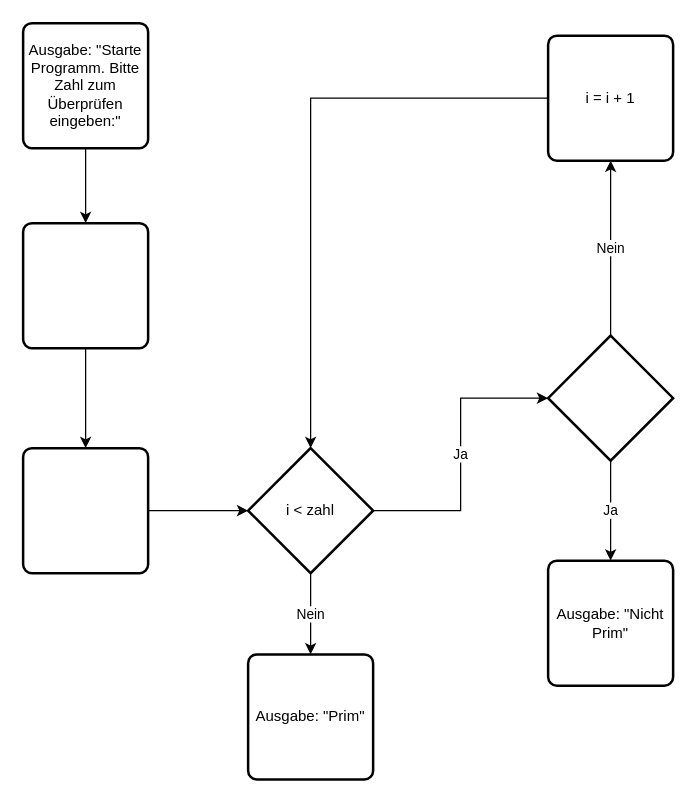
This 695x801 diagram has some shape labels left out. Each missing label, with the centre of its shape:
"int i = 2" belongs at (85,510).
"int zahl = Eingabe" belongs at (85,285).
"zahl % i == 0" belongs at (610,397).
